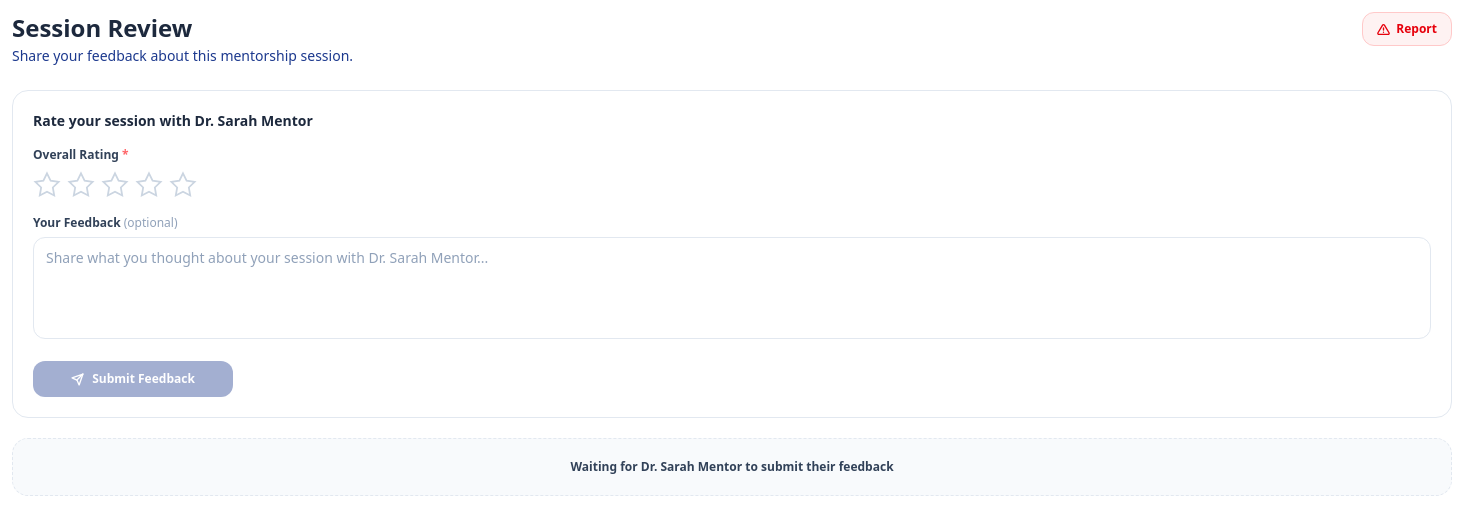
Scenario: SharedReportTab › should handle smooth feedback submission workflow and transition layout onto success notifications banners
# Select star and type text comment parameters
Step 1. Click the 6th button → (183, 185), box [169,171,197,199]
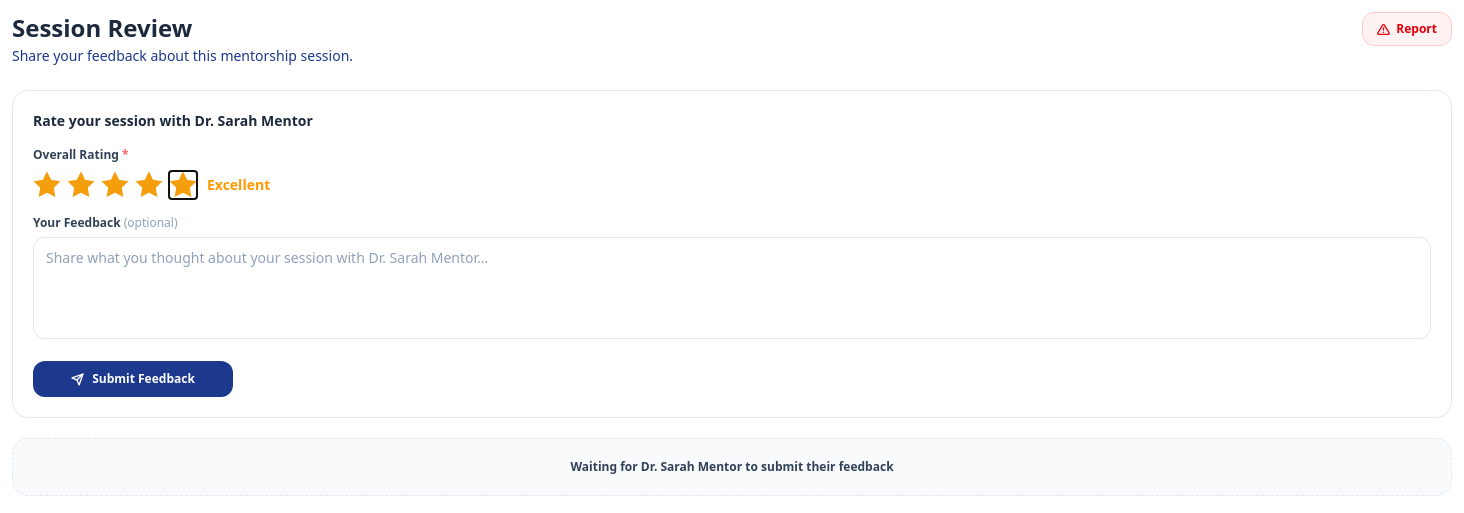
Step 2. Type "Splendid session guidance." into the text box with placeholder "Share what you thought about your session" → (732, 288), box [33,237,1431,339]
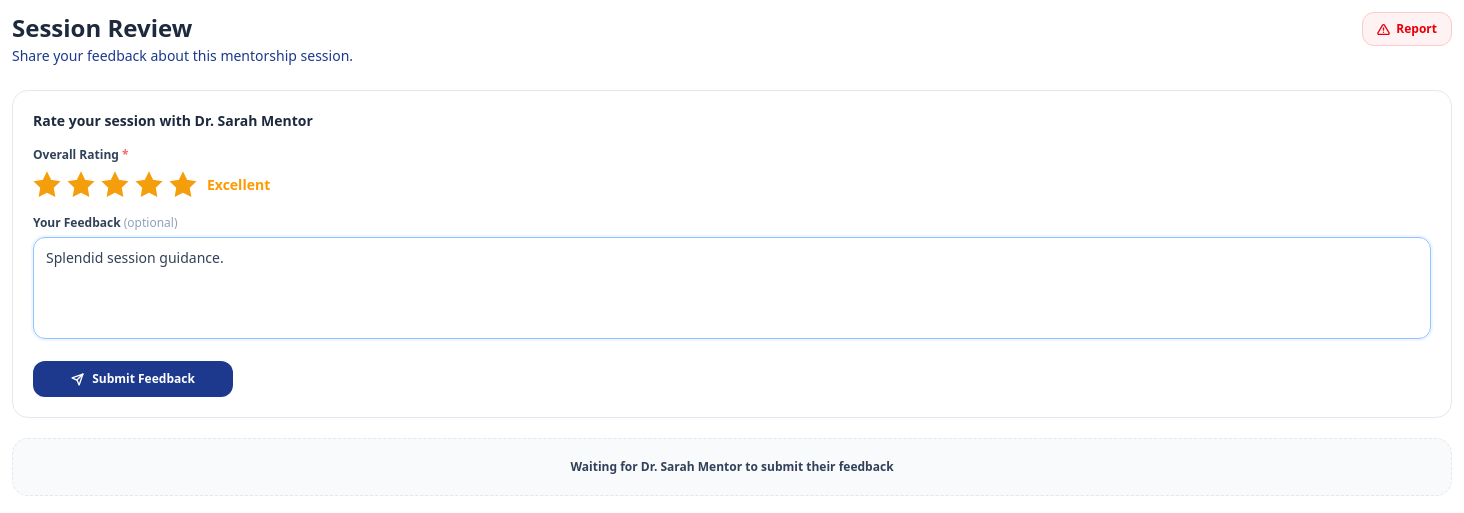
Step 3. Click the button "Submit Feedback" → (133, 379), box [33,361,233,397]
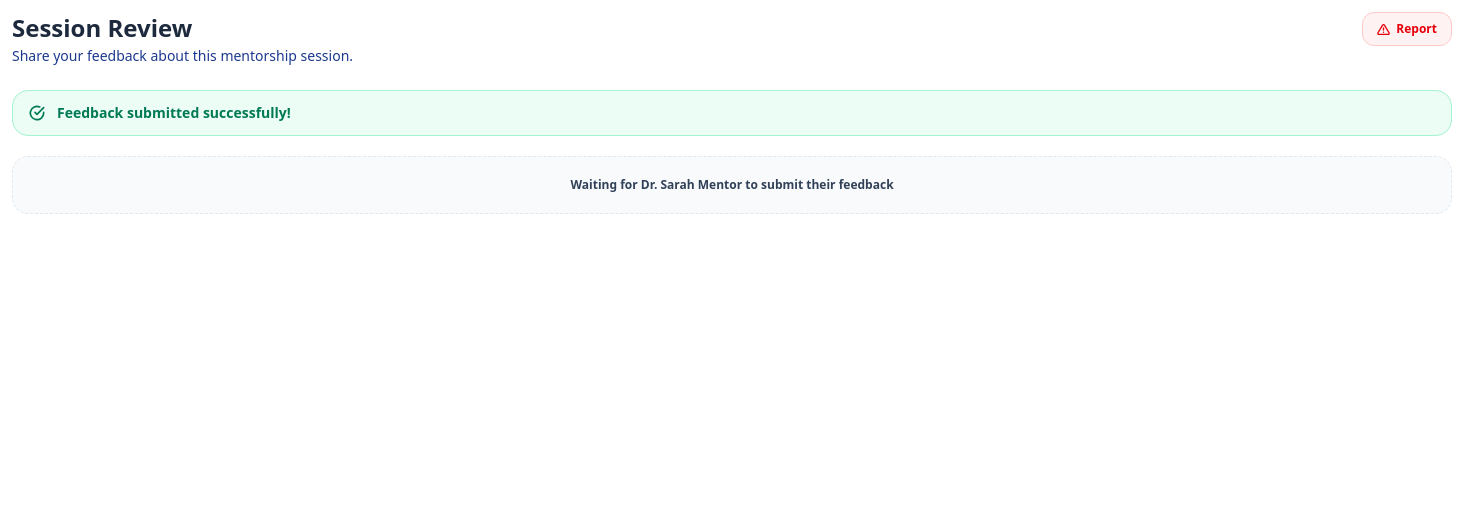
Check: the text "Feedback submitted successfully!" is shown, box [12,90,1452,136]
